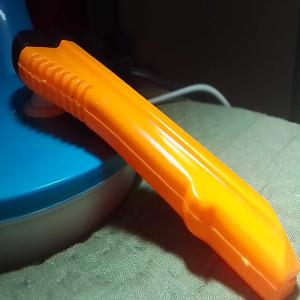estilete: (11, 27, 300, 300)
